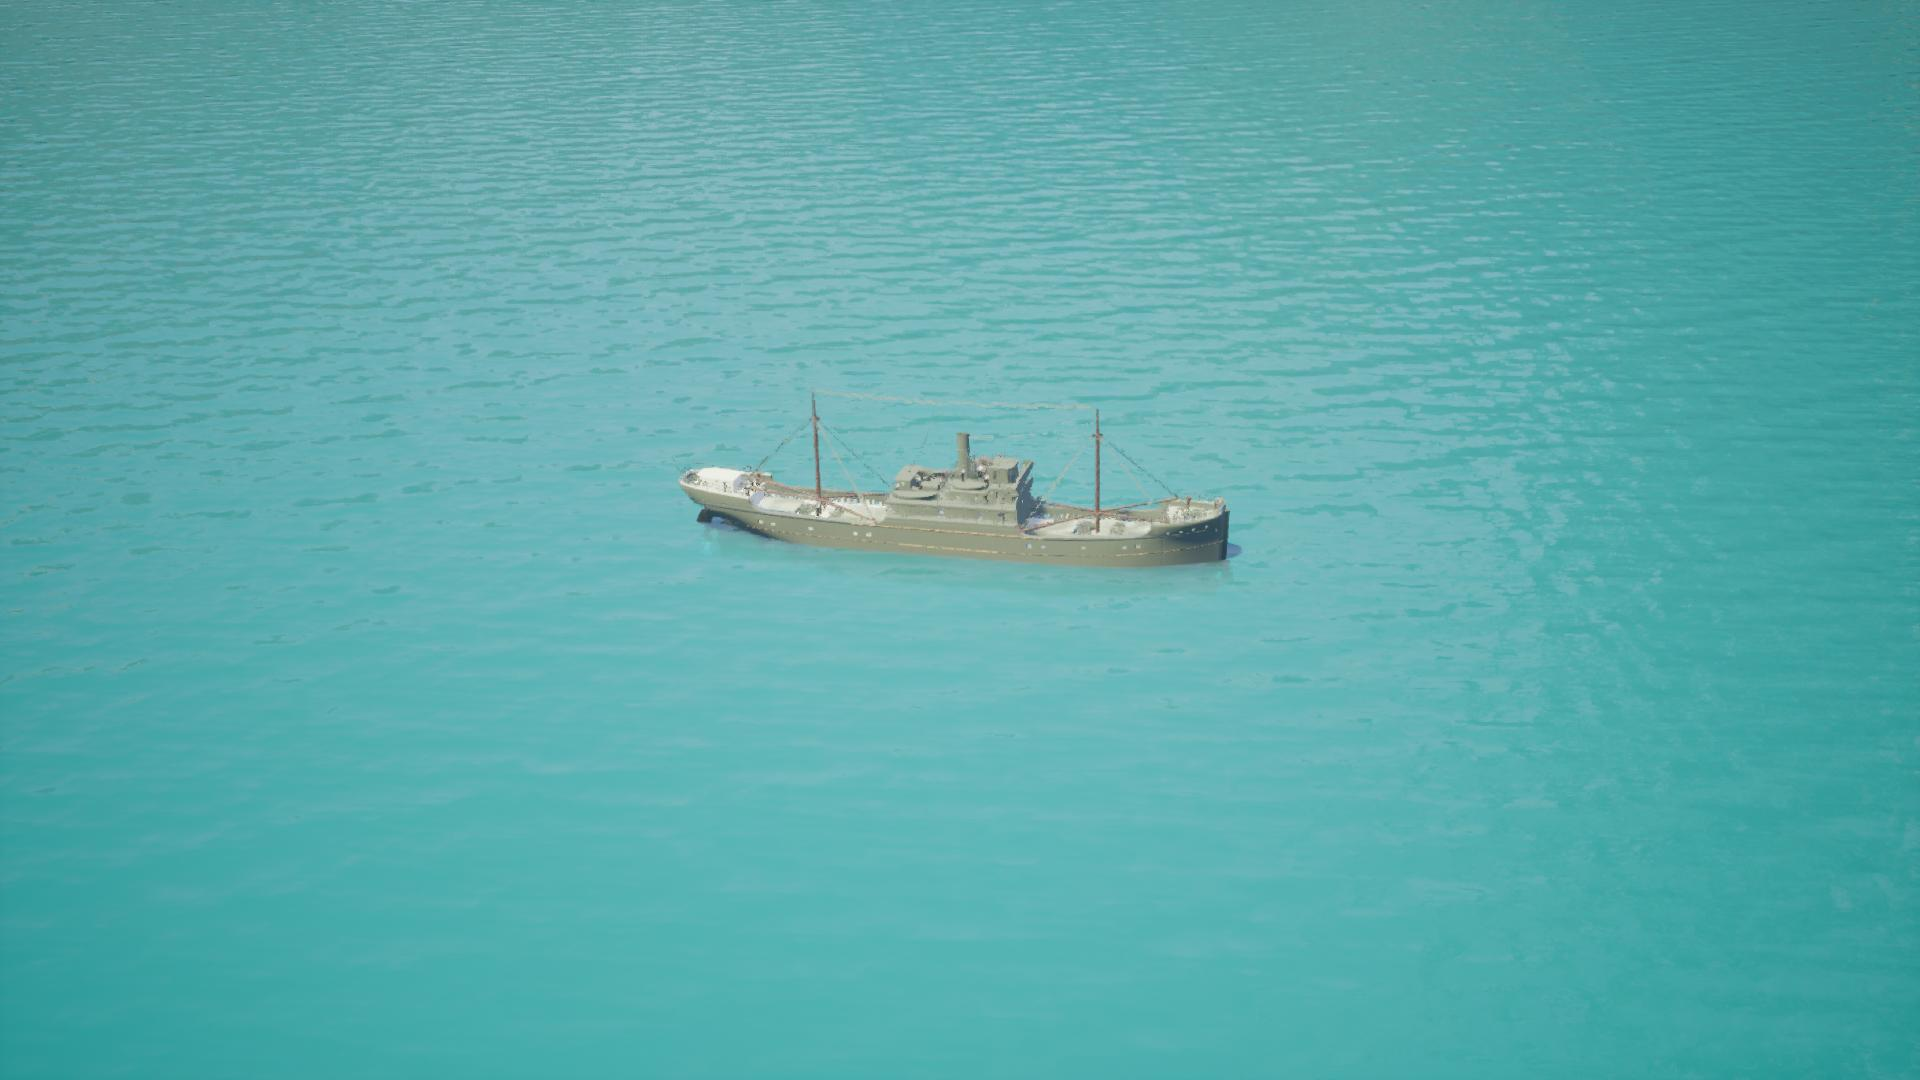Fishing Boat: (680, 418, 1233, 572)
